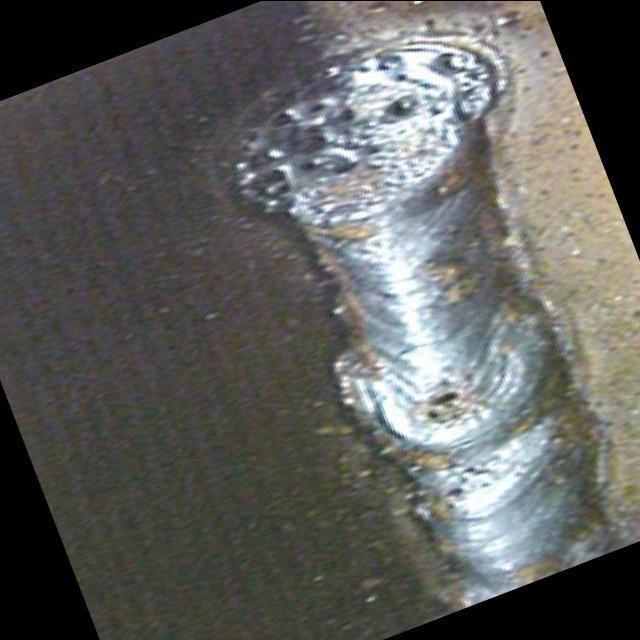defect: (241, 79, 420, 207), (429, 454, 494, 506), (417, 380, 469, 424)
